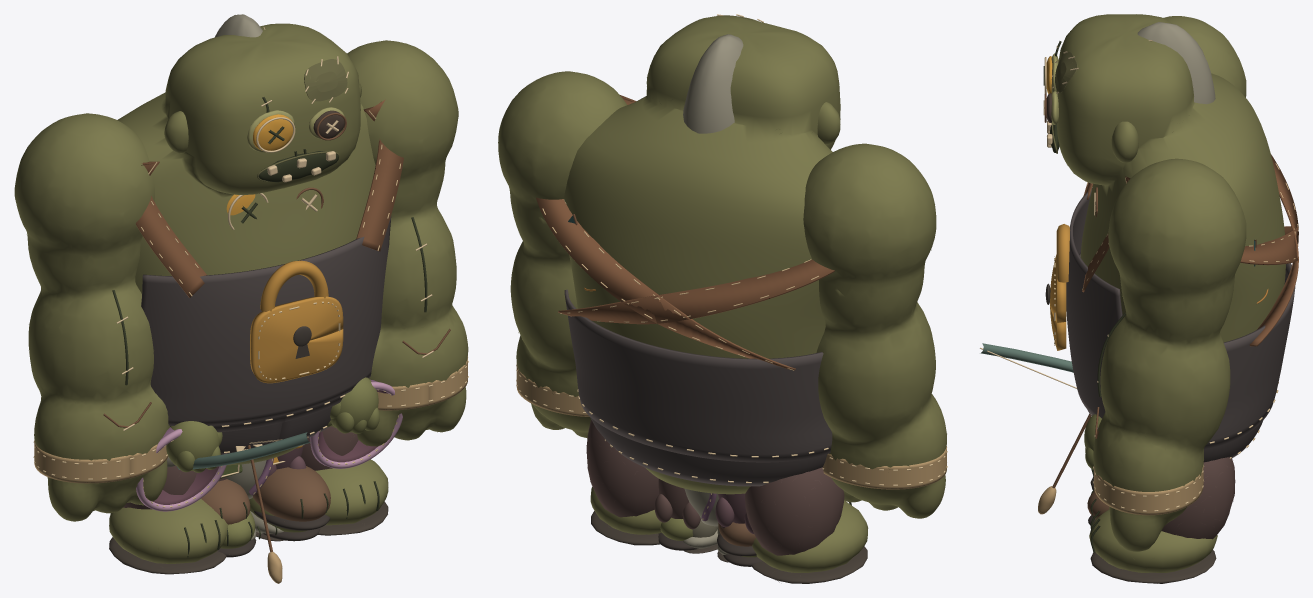
The model's file is final-trio.glb.
3 views of the same model, side by side, from view 1: azimuth 30°, elevation 25°; view 2: azimuth 150°, elevation 25°; view 3: azimuth 270°, elevation 25° (orthographic). The views are drawn at different scales.
Parts seen in each view (by area): view 1: boss-warden / continuous stuffed ArmL, boss-warden / continuous head-neck-body, boss-warden / continuous stuffed ArmR, slate apron bib, padded brass lock, boss-warden / felt foot, archer / Mesh / LegR, boss-warden / felt foot.001, hammer mitten binding, crossed load strap.001, crossed load strap, layered apron hem (+23 smaller); view 2: boss-warden / continuous head-neck-body, boss-warden / continuous stuffed ArmL, layered apron hem.001, boss-warden / continuous stuffed ArmR, boss-warden / cloth leg, crossed load strap, crossed load strap.001, layered apron hem, boss-leech / continuous head-neck-body, boss-warden / cloth leg.001, boss-warden / felt foot, hammer mitten binding (+7 smaller); view 3: boss-warden / continuous stuffed ArmR, boss-warden / continuous head-neck-body, slate apron bib, layered apron hem.001, boss-warden / felt foot.001, boss-warden / cloth leg.001, hammer mitten binding.001, boss-leech / continuous head-neck-body, boss-warden / continuous stuffed ArmL, crossed load strap, crossed load strap.001, boss-warden / dark cloth sole.001 (+7 smaller).
Boxes of the visible parts, x1,y1,x2,y2 form: boss-warden / continuous stuffed ArmL: (14,113,170,521); boss-warden / continuous head-neck-body: (117,23,375,465); boss-warden / continuous stuffed ArmR: (347,40,468,446); slate apron bib: (141,215,391,425); padded brass lock: (250,296,343,383); boss-warden / felt foot: (109,499,228,563); archer / Mesh / LegR: (253,444,330,530); boss-warden / felt foot.001: (315,459,388,525); hammer mitten binding: (34,439,168,483); crossed load strap.001: (356,99,403,251); crossed load strap: (136,161,206,297); layered apron hem: (219,406,332,454); boss-warden / continuous head-neck-body: (563,15,840,494); boss-warden / continuous stuffed ArmL: (803,143,946,518); layered apron hem.001: (564,289,832,462); boss-warden / continuous stuffed ArmR: (498,71,626,437); boss-warden / cloth leg: (745,467,844,555); crossed load strap: (558,259,834,324); crossed load strap.001: (536,95,795,370); layered apron hem: (590,417,827,486); boss-leech / continuous head-neck-body: (683,34,743,526); boss-warden / cloth leg.001: (586,420,659,517); boss-warden / felt foot: (752,501,868,572); hammer mitten binding: (822,446,946,489); boss-warden / continuous stuffed ArmR: (1093,158,1246,551); boss-warden / continuous head-neck-body: (1056,14,1285,342); slate apron bib: (1066,188,1122,418); layered apron hem.001: (1079,252,1295,449); boss-warden / felt foot.001: (1089,509,1217,572); boss-warden / cloth leg.001: (1161,457,1235,539); hammer mitten binding.001: (1094,466,1203,515); boss-leech / continuous head-neck-body: (1137,22,1215,104); boss-warden / continuous stuffed ArmL: (1163,16,1246,97); crossed load strap: (1083,154,1298,346); crossed load strap.001: (1082,176,1298,292); boss-warden / dark cloth sole.001: (1090,550,1216,583).
Size of the model in its own units: 2.29 by 2.65 by 1.54.
